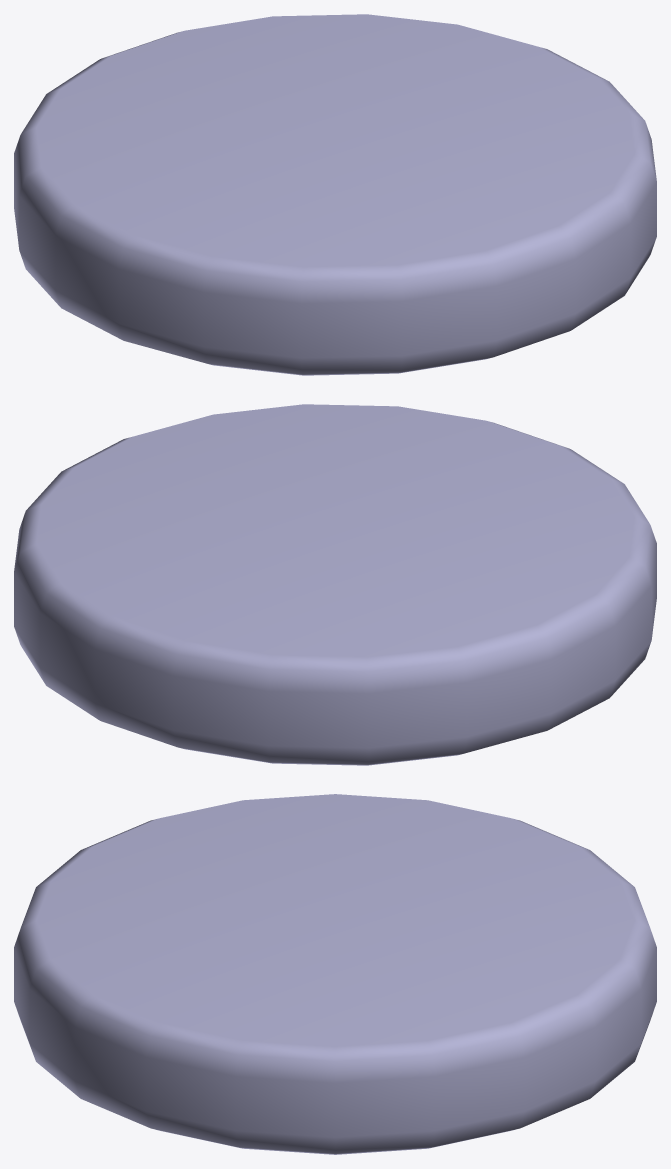
The model's file is phao_red.fbx.
3 renders of one model, top to bottom at view 1: azimuth 30°, elevation 25°; view 2: azimuth 150°, elevation 25°; view 3: azimuth 270°, elevation 25°, orthographic.
Visible parts, largest first — view 1: phao_red; view 2: phao_red; view 3: phao_red.
Part boxes in pixels (left/top/right/bottom): phao_red: left=14, top=14, right=656, bottom=375; phao_red: left=14, top=404, right=656, bottom=765; phao_red: left=14, top=794, right=656, bottom=1154.
Bounding box in the file's own units: 98.96 × 18.36 × 98.96.
